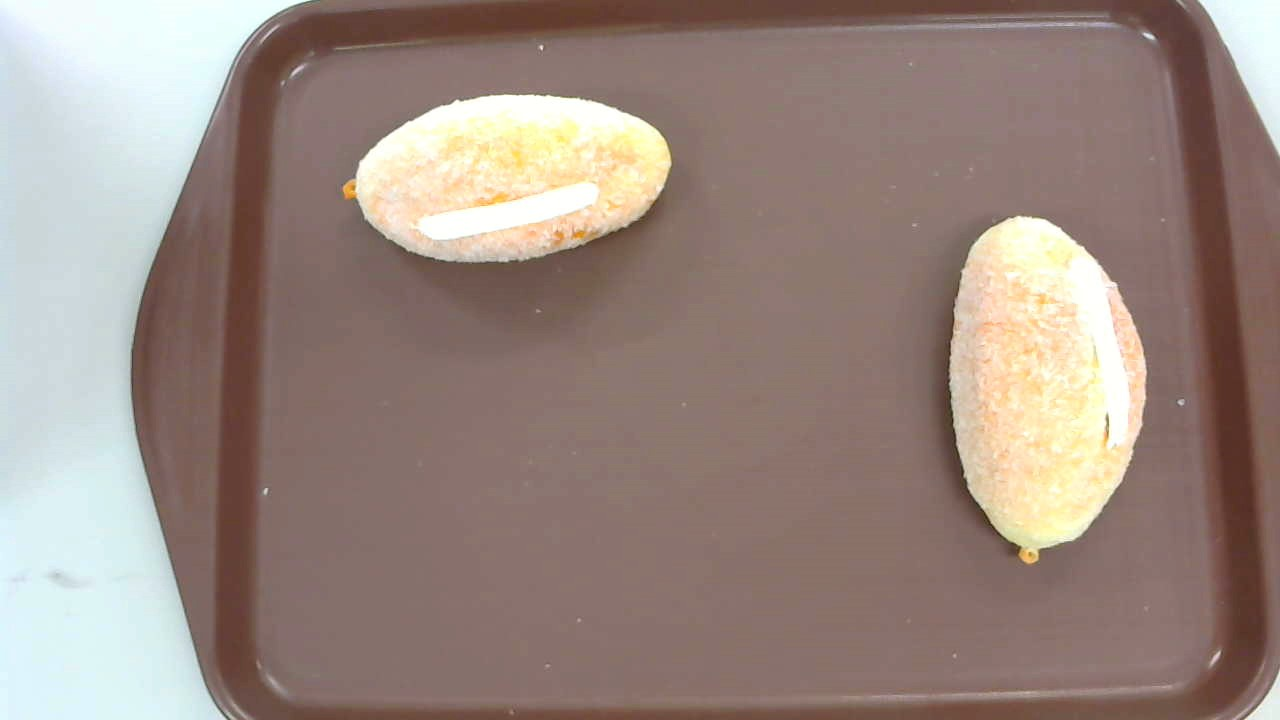coconut: (948, 213, 1149, 564), (343, 94, 672, 263)
